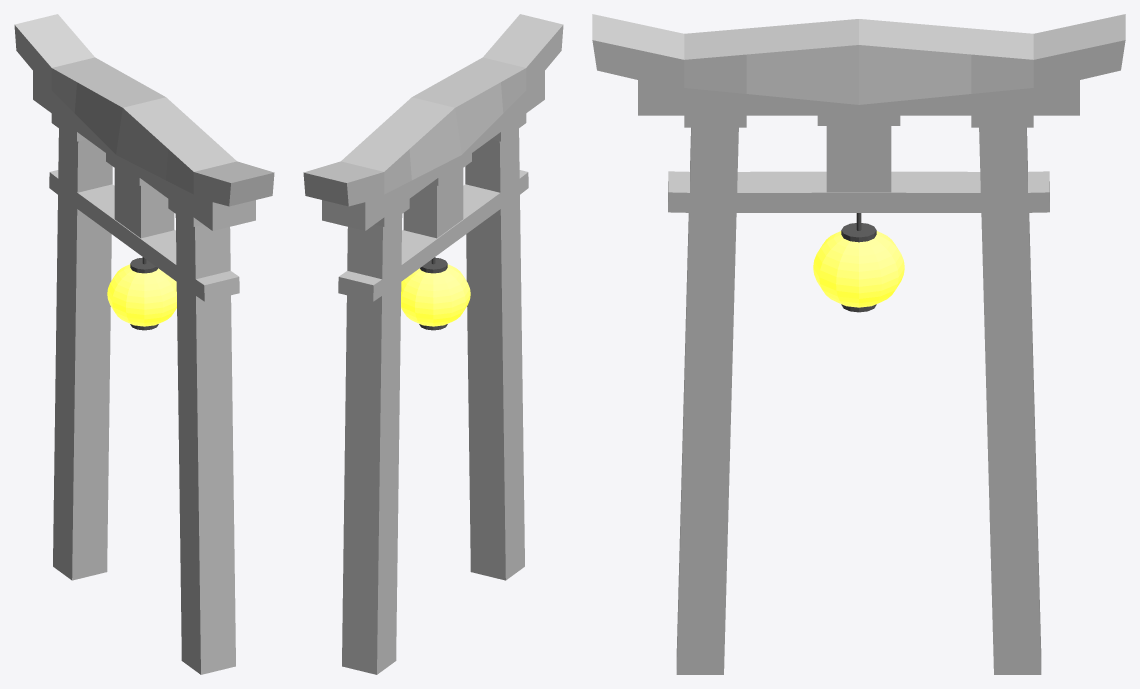
Rendered from japaneseDoor.fbx.
The picture shows the model from 3 angles, left to right: view 1: azimuth 30°, elevation 25°; view 2: azimuth 150°, elevation 25°; view 3: azimuth 270°, elevation 25°; orthographic projection. The views are drawn at different scales.
Parts seen in each view (by area): view 1: japaneseDoor, japaneseDoor.lamp.light, japaneseDoor.lamp.handle; view 2: japaneseDoor, japaneseDoor.lamp.light, japaneseDoor.lamp.handle; view 3: japaneseDoor, japaneseDoor.lamp.light, japaneseDoor.lamp.handle.
Boxes of the visible parts, x1,y1,x2,y2 form: japaneseDoor: (14,14,274,674); japaneseDoor.lamp.light: (107,264,176,326); japaneseDoor.lamp.handle: (130,257,158,330); japaneseDoor: (303,14,563,674); japaneseDoor.lamp.light: (401,264,470,326); japaneseDoor.lamp.handle: (419,257,447,330); japaneseDoor: (592,14,1125,674); japaneseDoor.lamp.light: (813,231,904,307); japaneseDoor.lamp.handle: (841,213,876,312).
Bounding box in the file's own units: 20.83 × 3.58 × 27.48.
